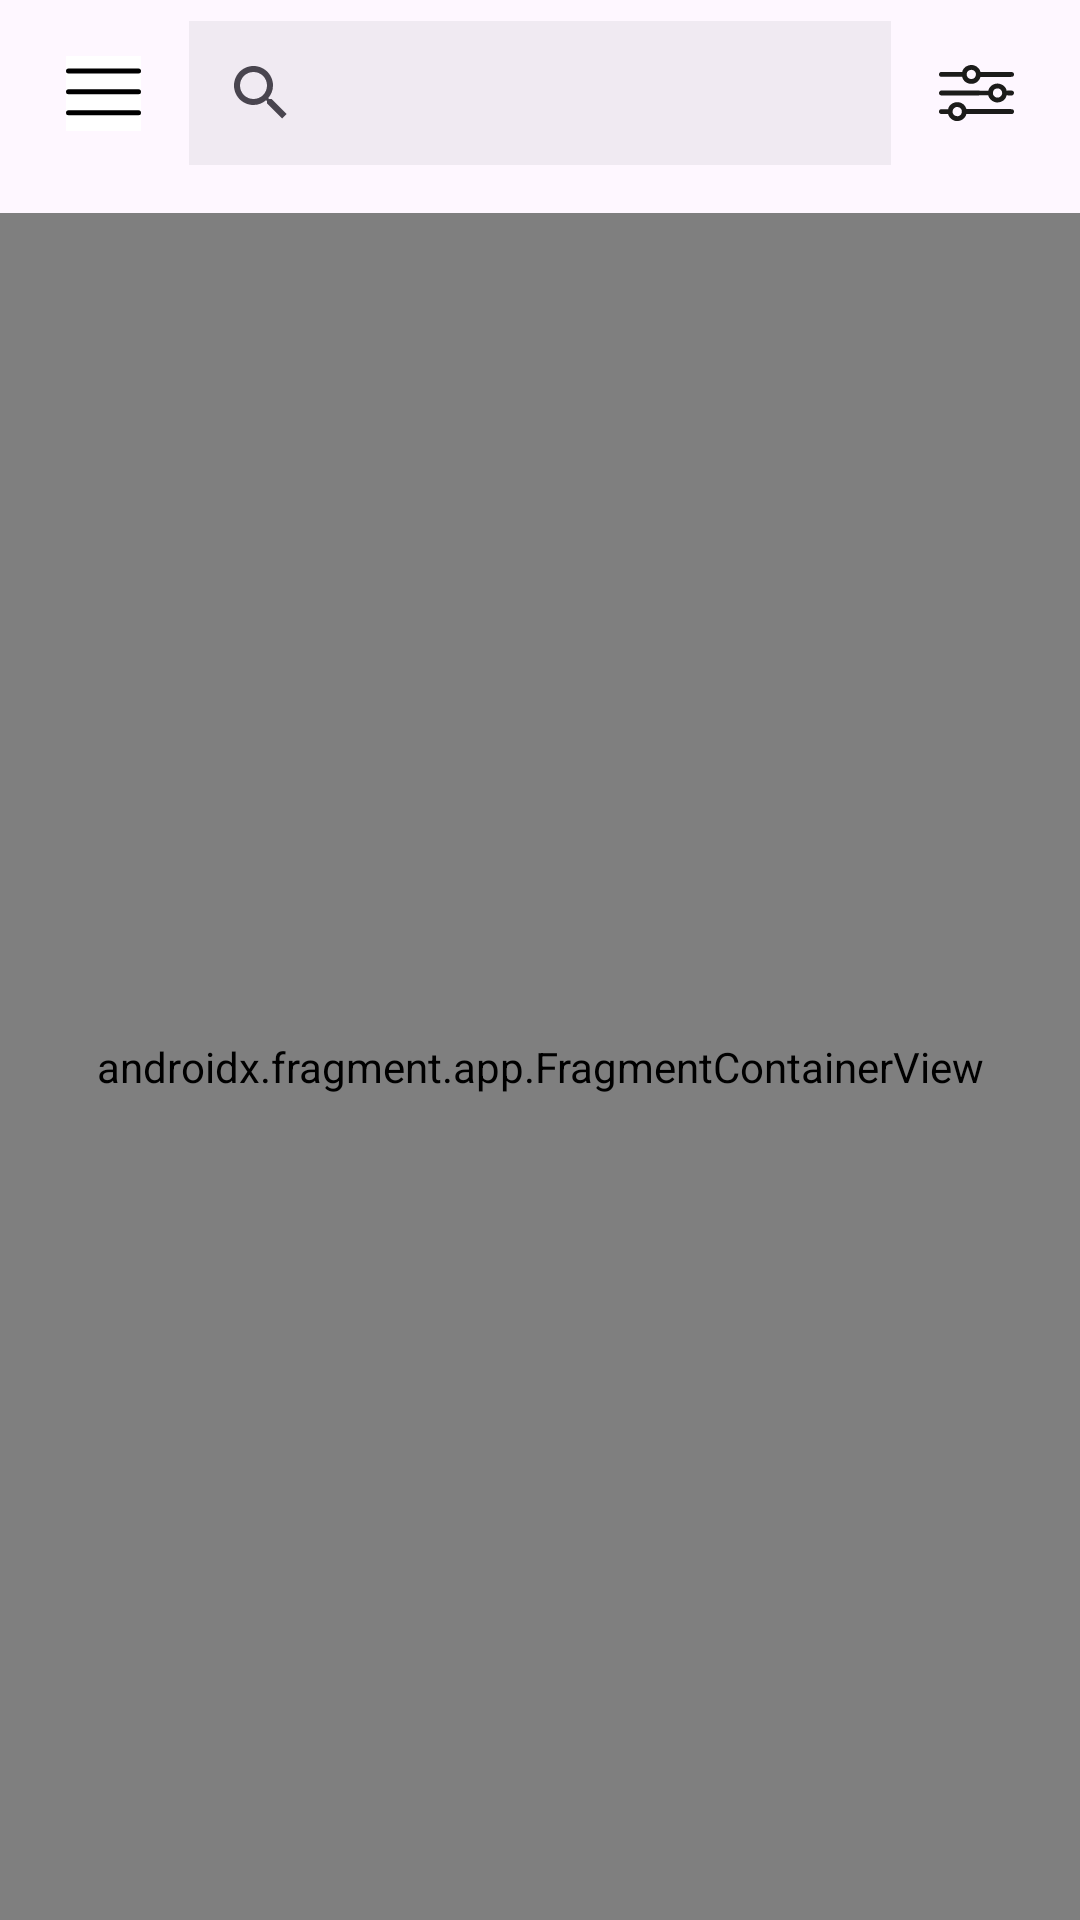

Where to tap for icons on this 1080 × 1920 app screen, as (x=x, y=y):
filter: (x=976, y=93)
menu: (x=103, y=92)
